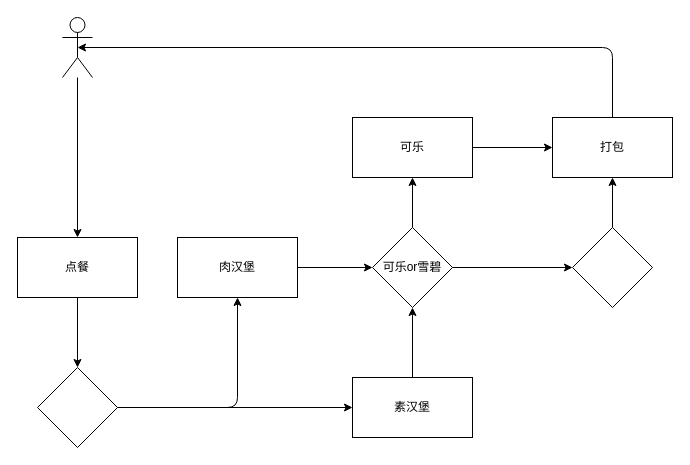
The diagram is 690 pixels wide and 465 high, and some of its shapes have lost their labels. Each missing label, with the box of its shape:
用户: (62, 16, 92, 78)
要肉的汉堡: (36, 366, 118, 448)
雪碧: (572, 226, 652, 308)
